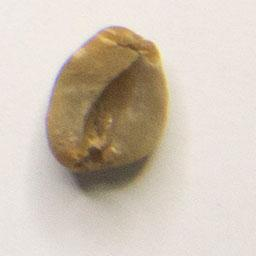defect: (41, 21, 173, 180)
